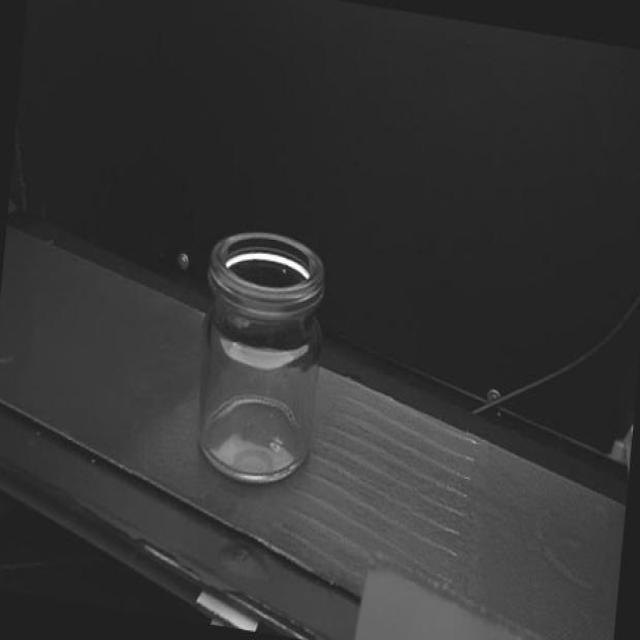defect: (230, 340, 249, 351)
glass: (187, 222, 332, 494)
